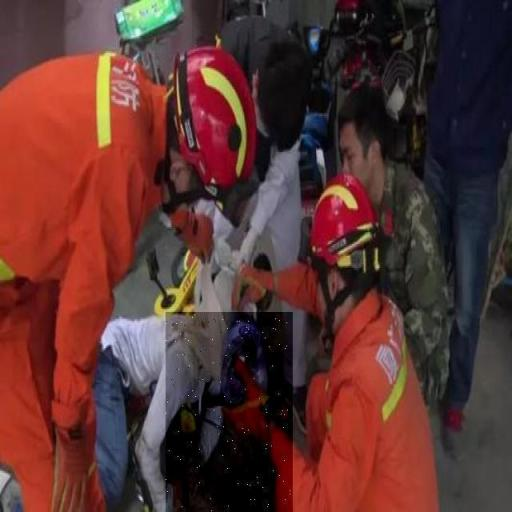Fall: (166, 312, 293, 512)
